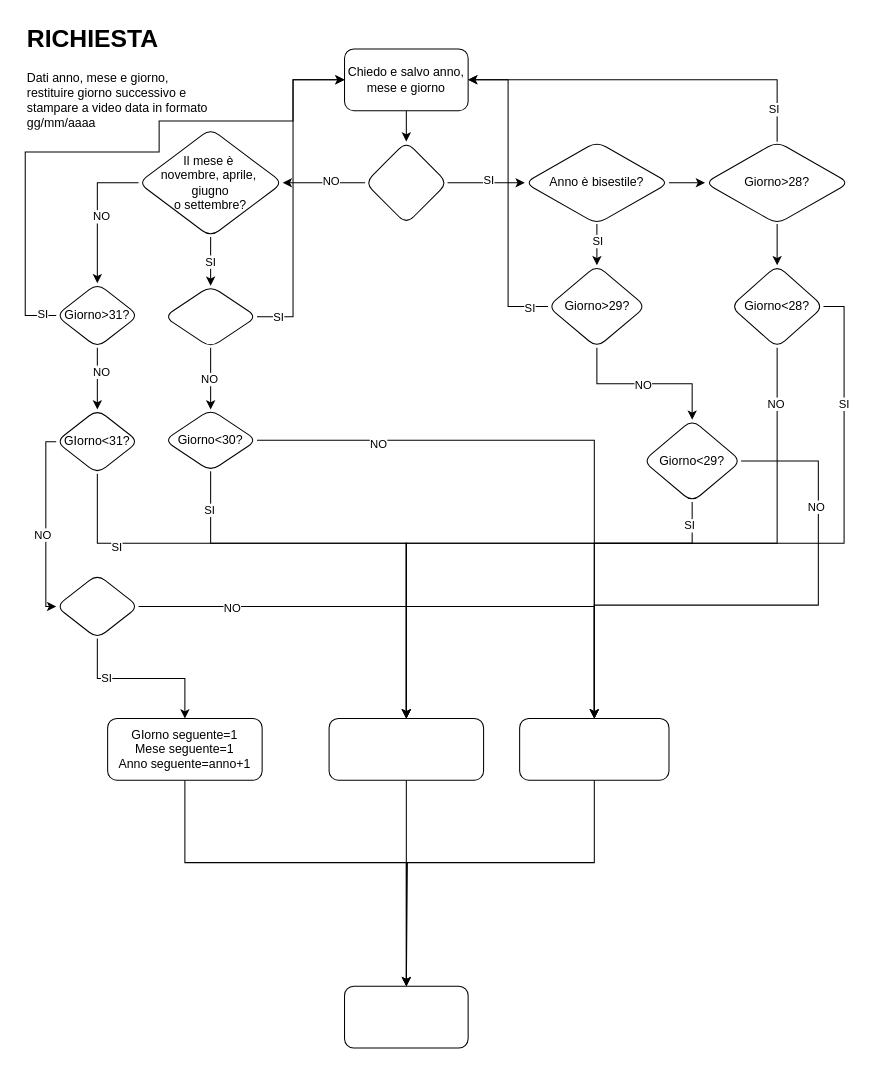
The diagram is 870 pixels wide and 1066 high, and some of its shapes have lost their labels. Each missing label, with the centre of its shape:
"Giorno seguente = 1 Mese seguente = mese+1 Anno seguente=anno" belongs at (594,748).
"Giorno seguente=giorno+1 Mese seguente=mese Anno seguente=anno" belongs at (406,748).
"Giorno>30?" belongs at (210,316).
"Il mese è febbraio?" belongs at (406,182).
"Mese = dicembre?" belongs at (97,606).
"Stampo a video giorno" belongs at (406,1016).
